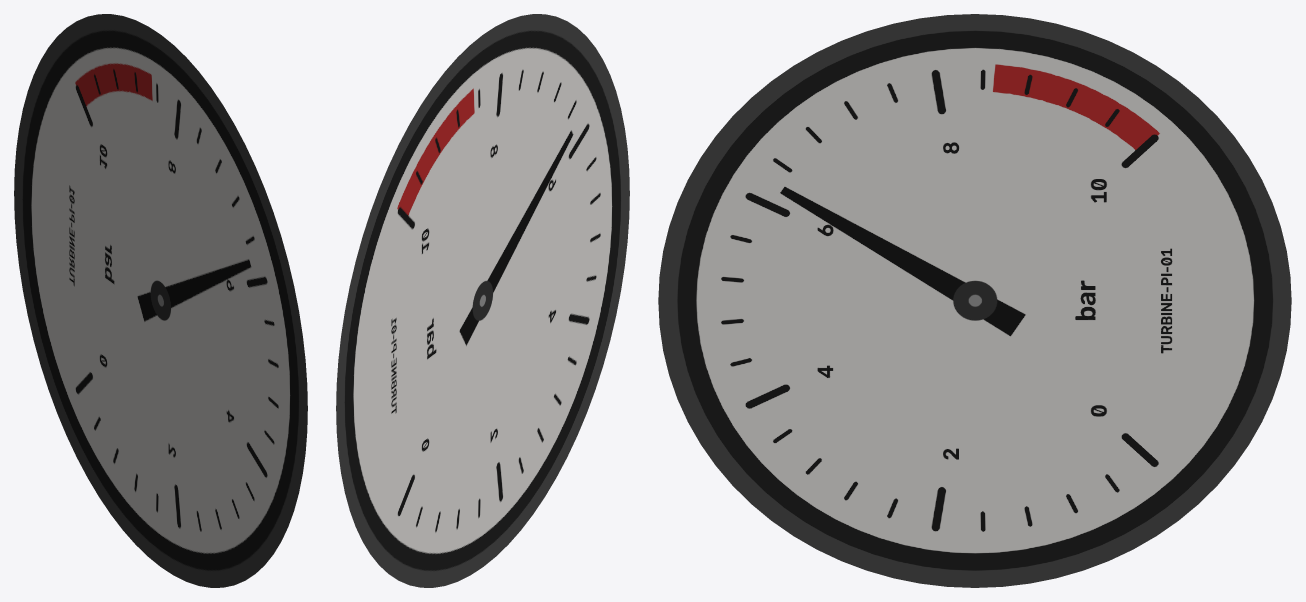
Rendered from dial.obj.
3 views of the same model, side by side, from view 1: azimuth 30°, elevation 25°; view 2: azimuth 150°, elevation 25°; view 3: azimuth 270°, elevation 25° (orthographic). The views are drawn at different scales.
Parts seen in each view (by area): view 1: gauge_g01_dial; view 2: gauge_g01_dial; view 3: gauge_g01_dial.
Boxes of the visible parts, bbox=[...] form: gauge_g01_dial: bbox=[14, 14, 307, 587]; gauge_g01_dial: bbox=[336, 14, 629, 587]; gauge_g01_dial: bbox=[658, 14, 1291, 587].
Size of the model in its own units: 0 by 0.3 by 0.3.
1 material, 1 textured.
